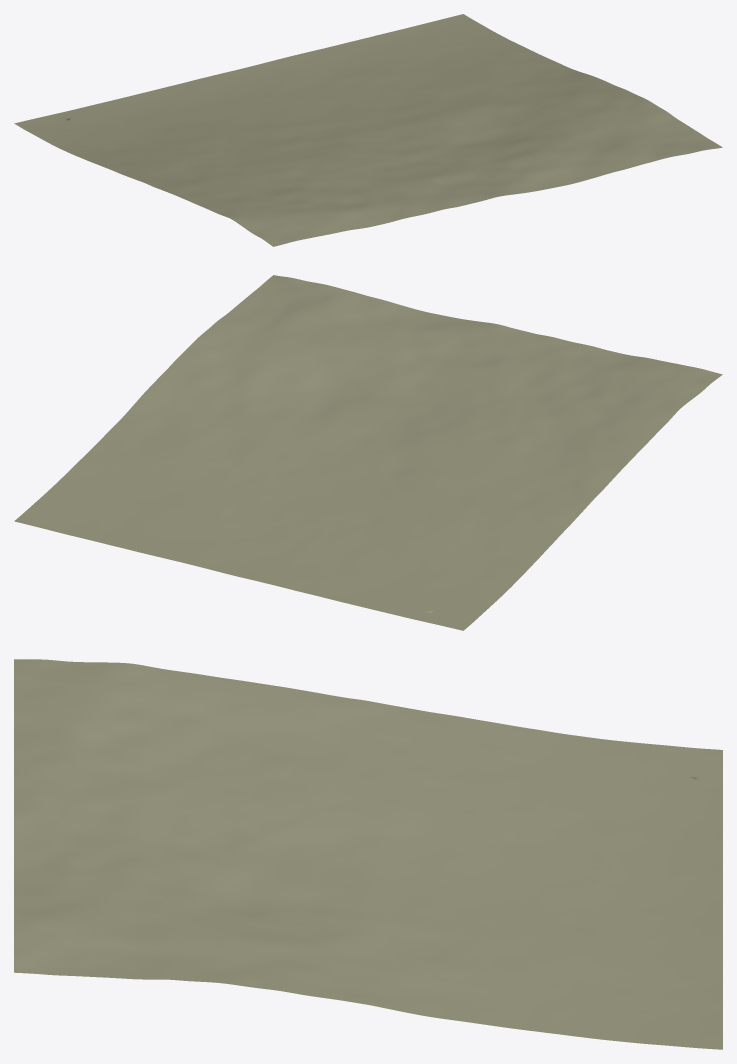
Rendered from SM_VB_CityTerrain_6_6.fbx.
The picture shows the model from 3 angles, top to bottom: view 1: azimuth 30°, elevation 25°; view 2: azimuth 150°, elevation 25°; view 3: azimuth 270°, elevation 25°; orthographic projection. The views are drawn at different scales.
Visible parts, largest first — view 1: SM_VB_CityTerrain_6_6; view 2: SM_VB_CityTerrain_6_6; view 3: SM_VB_CityTerrain_6_6.
Part boxes in pixels (x1,y1,x2,y2): SM_VB_CityTerrain_6_6: (14, 14, 722, 246); SM_VB_CityTerrain_6_6: (14, 275, 722, 630); SM_VB_CityTerrain_6_6: (14, 659, 722, 1049).
Size of the model in its own units: 600 by 86.55 by 600.
